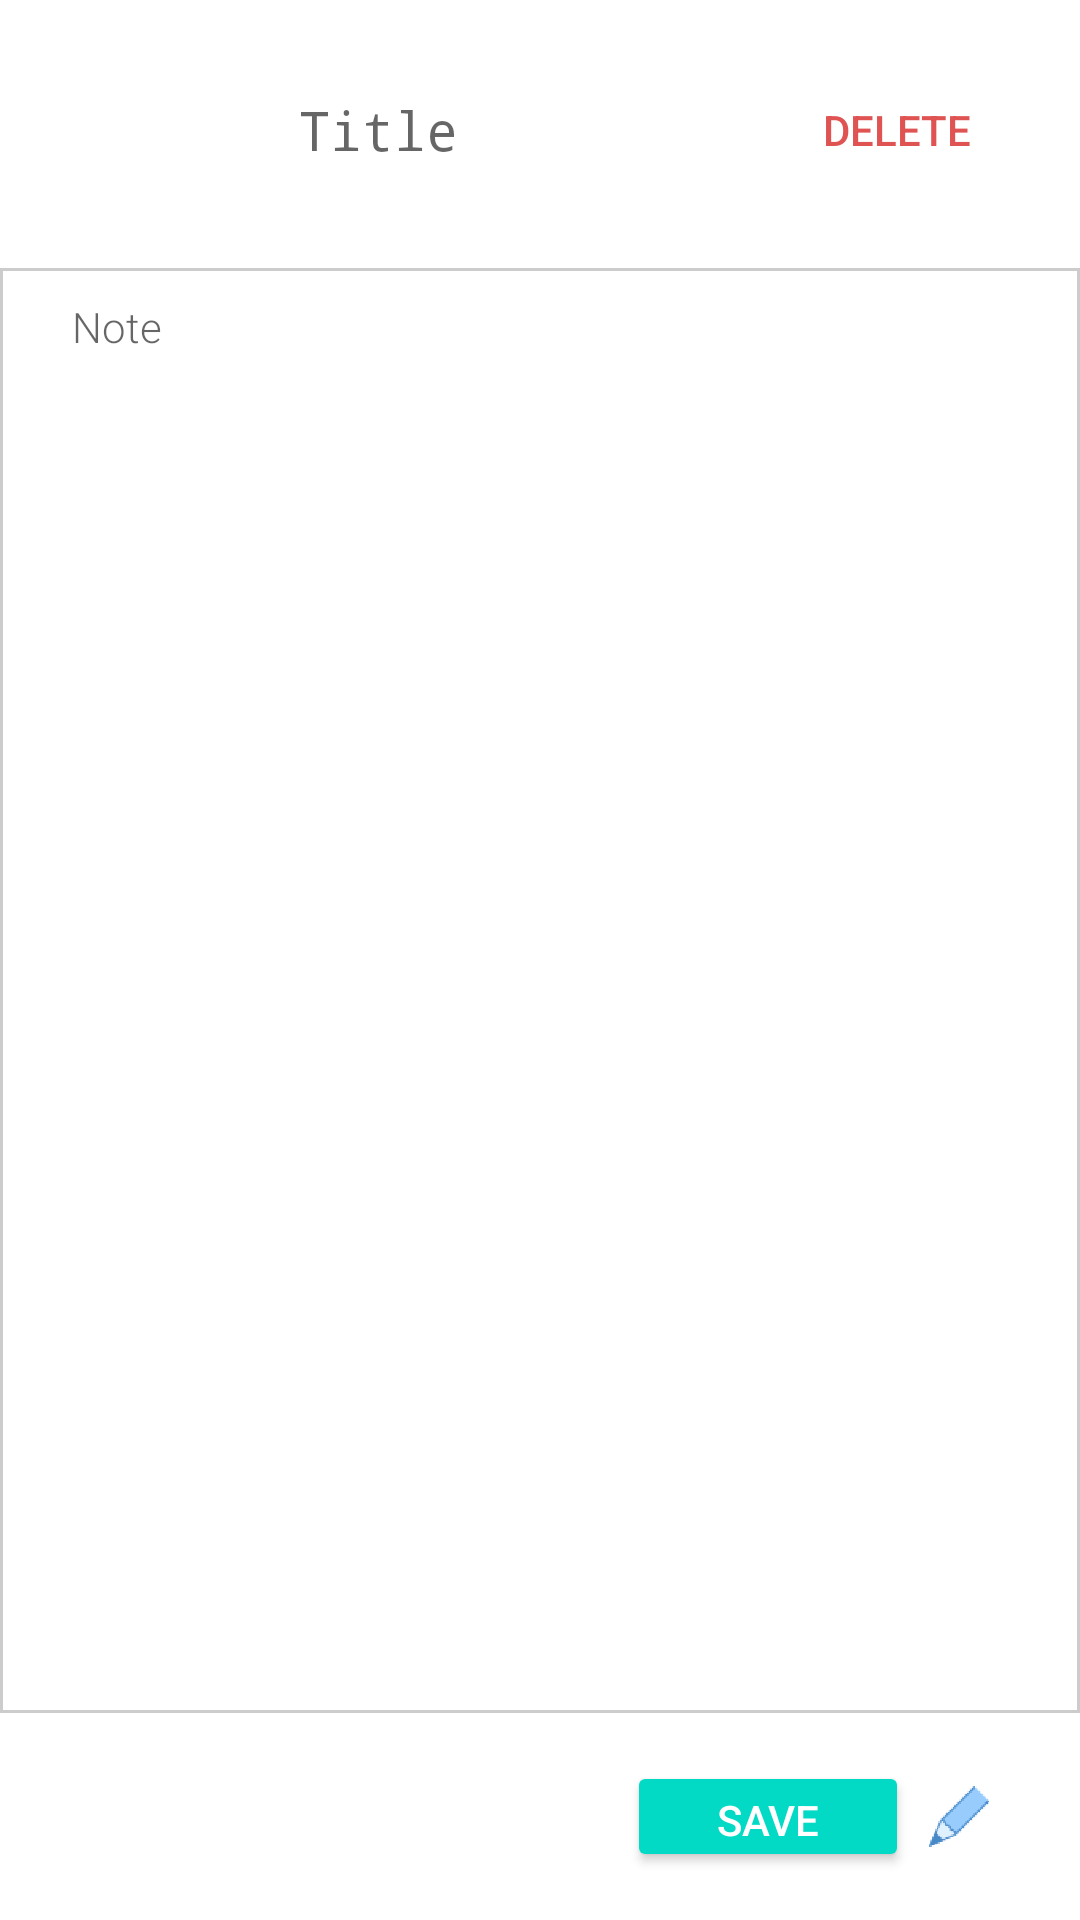

Point at icon controls on the screen. Image size 1080x1920, points as point (x, y).
pen: point (959, 1816)
